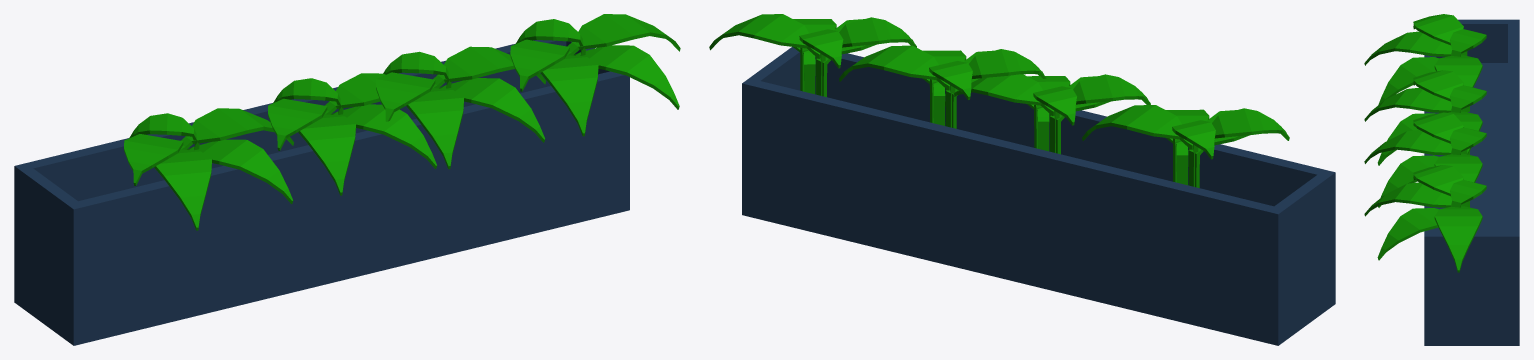
Rendered from macetota.fbx.
3 views of the same model, side by side, from view 1: azimuth 30°, elevation 25°; view 2: azimuth 150°, elevation 25°; view 3: azimuth 270°, elevation 25° (orthographic). The views are drawn at different scales.
Parts seen in each view (by area): view 1: Plane.001; view 2: Plane.001; view 3: Plane.001.
Part boxes in pixels (left/top/right/bottom): Plane.001: left=14, top=14, right=680, bottom=345; Plane.001: left=709, top=14, right=1335, bottom=345; Plane.001: left=1364, top=14, right=1519, bottom=345.
Size of the model in its own units: 340 by 90.8 by 91.05.
